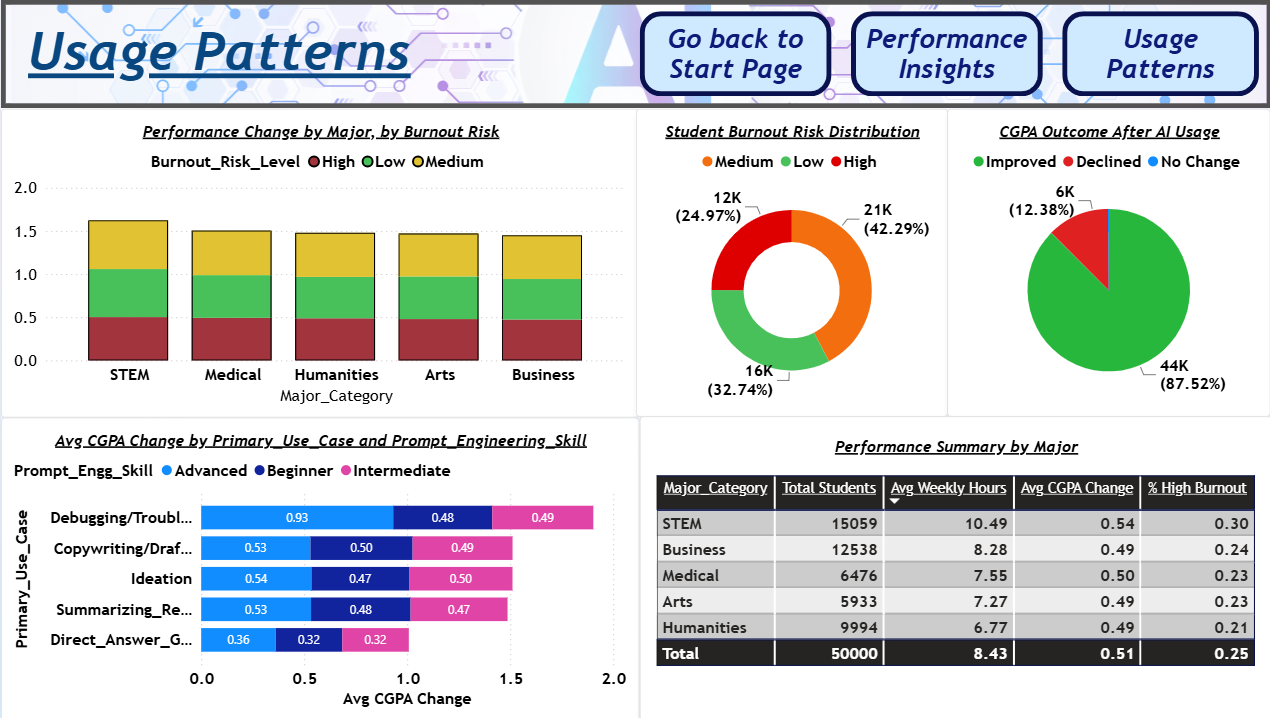

The dashboard page shown, as its layout file describes it:
{"tool":"powerbi","page":{"name":"Visuals Page 2","canvas":[1270,720],"ordinal":2},"visuals":[{"type":"image","box":[0,0,1270,108.3],"z":0},{"type":"actionButton","box":[850,11.7,191.7,85],"z":1000},{"type":"actionButton","box":[1061.7,11.7,196.7,85],"z":2000},{"type":"textbox","box":[0,15,436.7,81.7],"z":3000},{"type":"actionButton","box":[638.3,11.7,191.7,85],"z":4000},{"type":"columnChart","title":"Performance Change by Major, by Burnout Risk","fields":{"Category":["ai_student_impact_dataset.Major_Category"],"Y":["ai_student_impact_dataset.Avg CGPA Change"],"Series":["ai_student_impact_dataset.Burnout_Risk_Level"]},"box":[0,108.5,638.5,308.5],"z":5000},{"type":"barChart","fields":{"Category":["ai_student_impact_dataset.Primary_Use_Case"],"Y":["ai_student_impact_dataset.Avg CGPA Change"],"Series":["ai_student_impact_dataset.Prompt_Engineering_Skill"]},"box":[0,416.9,638.5,303.1],"z":6000},{"type":"donutChart","title":"Student Burnout Risk Distribution","fields":{"Category":["ai_student_impact_dataset.Burnout_Risk_Level"],"Y":["ai_student_impact_dataset.Total Students"]},"box":[635,108.3,311.7,308.3],"z":7000},{"type":"pieChart","title":"CGPA Outcome After AI Usage","fields":{"Category":["ai_student_impact_dataset.CGPA_Outcome"],"Y":["ai_student_impact_dataset.Total Students"]},"box":[946.7,108.3,323.3,308.3],"z":8000},{"type":"tableEx","title":"Performance Summary by Major","fields":{"Values":["ai_student_impact_dataset.Major_Category","ai_student_impact_dataset.Total Students","ai_student_impact_dataset.Avg Weekly Hours","ai_student_impact_dataset.Avg CGPA Change","ai_student_impact_dataset.% High Burnout"]},"box":[638.3,416.7,632,304],"z":9000}]}

Visuals, with their boxes in screenshot pixels (x1, y1, x2, y2), scaled from the page's 1270x720 canvas onto the 1270x718 screenshot:
image: bbox=(0, 0, 1269, 108)
actionButton: bbox=(850, 12, 1042, 96)
actionButton: bbox=(1062, 12, 1258, 96)
textbox: bbox=(0, 15, 437, 96)
actionButton: bbox=(638, 12, 830, 96)
"Performance Change by Major, by Burnout Risk" columnChart: bbox=(0, 108, 638, 416)
barChart - ai_student_impact_dataset.Primary_Use_Case x ai_student_impact_dataset.Avg CGPA Change: bbox=(0, 416, 638, 717)
"Student Burnout Risk Distribution" donutChart: bbox=(635, 108, 947, 415)
"CGPA Outcome After AI Usage" pieChart: bbox=(947, 108, 1269, 415)
"Performance Summary by Major" tableEx: bbox=(638, 416, 1269, 717)
